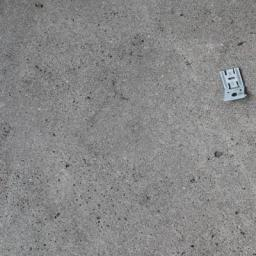FOD: (218, 67, 251, 105)
